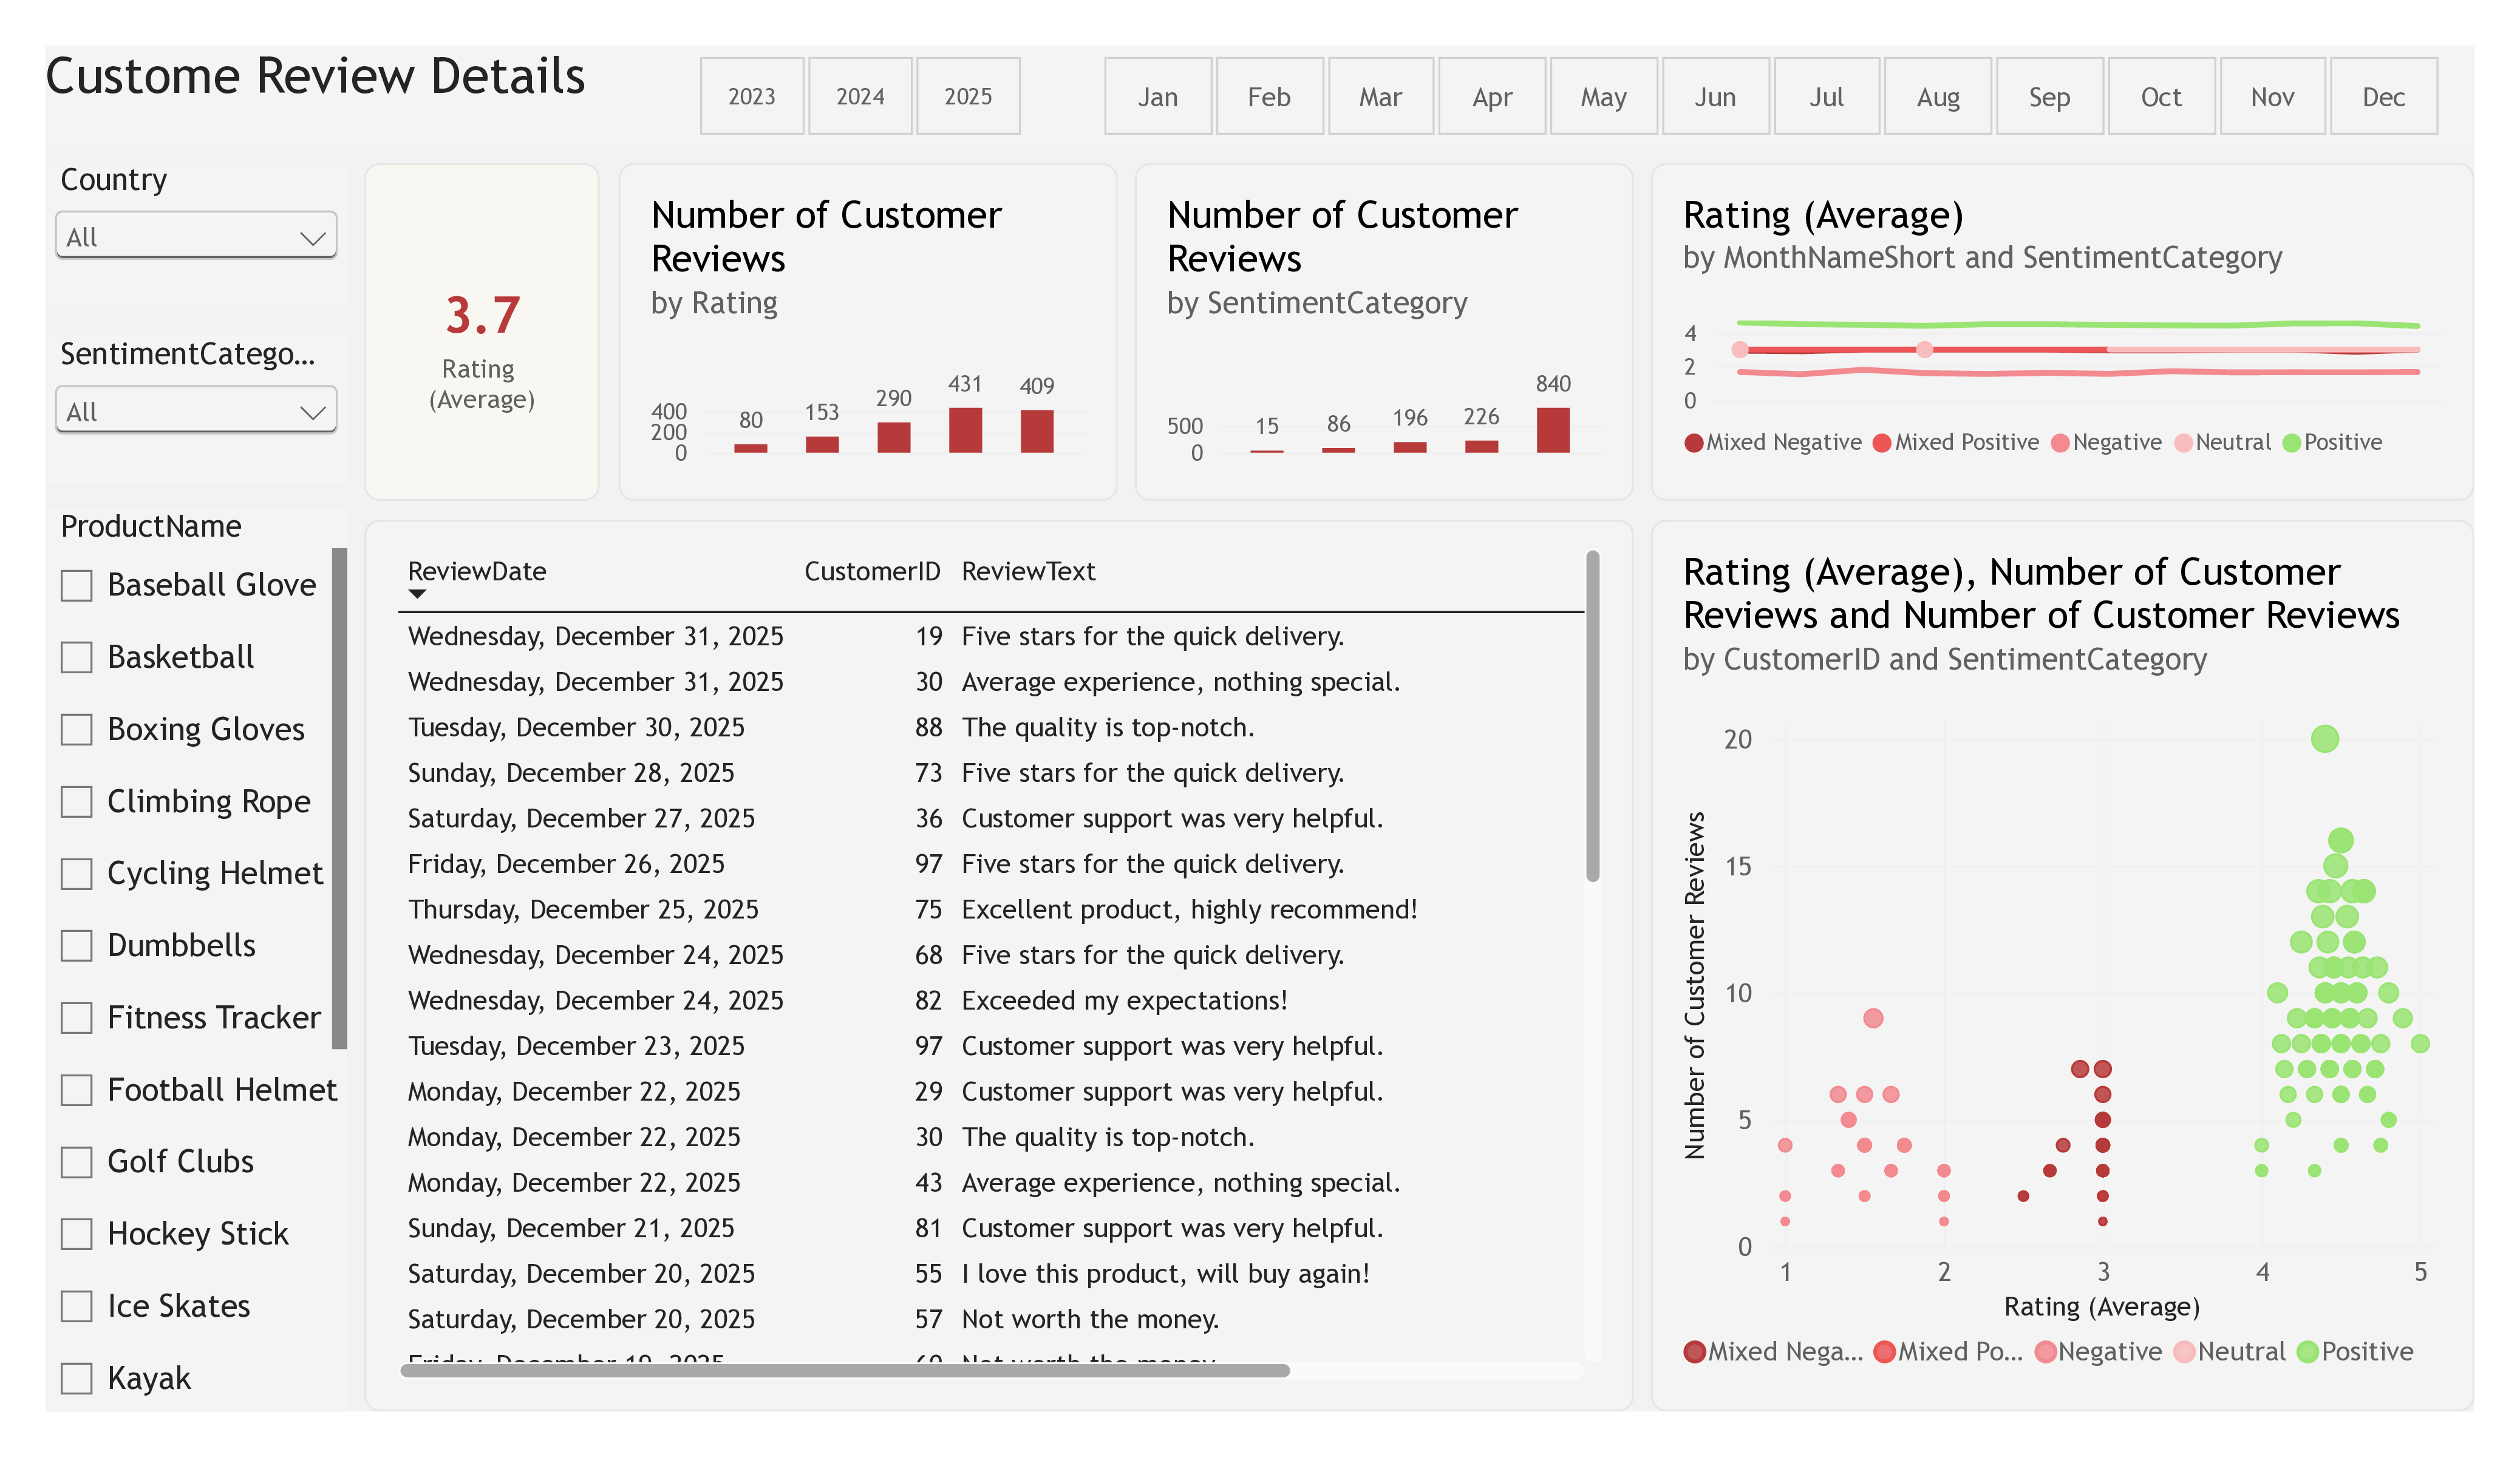

What the dashboard file says about the page in this screenshot:
{"tool":"powerbi","page":{"name":"Customer Review Details","canvas":[1280,720],"ordinal":3},"visuals":[{"type":"textbox","box":[0,0,1280,52.6],"z":0},{"type":"slicer","fields":{"Values":["dim_products.ProductName"]},"box":[0,244.2,159.3,475.3],"z":1000},{"type":"card","fields":{"Values":["_Calculations.Rating (Average)"]},"box":[168.5,61.9,123.8,178.5],"z":2000},{"type":"slicer","fields":{"Values":["Calendar.MonthNameShort"]},"box":[536.8,4.1,743.2,44.4],"z":3000},{"type":"lineChart","fields":{"Category":["Calendar.MonthNameShort"],"Series":["fact_customer_reviews_with_sentiment.SentimentCategory"],"Y":["_Calculations.Rating (Average)"]},"box":[846.2,62,434.1,178.4],"z":4000},{"type":"slicer","fields":{"Values":["Calendar.Year"]},"box":[324.1,4.1,208.5,44.4],"z":5000},{"type":"tableEx","fields":{"Values":["fact_customer_reviews_with_sentiment.ReviewDate","fact_customer_reviews_with_sentiment.CustomerID","fact_customer_reviews_with_sentiment.ReviewText","fact_customer_reviews_with_sentiment.SentimentCategory","fact_customer_reviews_with_sentiment.Rating"]},"box":[168.5,249.5,668.4,470.8],"z":6000},{"type":"columnChart","fields":{"Category":["fact_customer_reviews_with_sentiment.Rating"],"Y":["_Calculations.Number of Customer Reviews"]},"box":[302.4,62,262.4,178.4],"z":7000},{"type":"columnChart","fields":{"Category":["fact_customer_reviews_with_sentiment.SentimentCategory"],"Y":["_Calculations.Number of Customer Reviews"]},"box":[574.3,62,262.4,178.4],"z":8000},{"type":"slicer","fields":{"Values":["dim_customers.Country"]},"box":[0,61.4,159.3,78.3],"z":9000},{"type":"slicer","fields":{"Values":["fact_customer_reviews_with_sentiment.SentimentCategory"]},"box":[0,152.8,159.3,78.3],"z":10000},{"type":"scatterChart","fields":{"Category":["dim_customers.CustomerID"],"Series":["fact_customer_reviews_with_sentiment.SentimentCategory"],"Size":["_Calculations.Number of Customer Reviews"],"X":["_Calculations.Rating (Average)"],"Y":["_Calculations.Number of Customer Reviews"]},"box":[846,249.5,434.4,470.8],"z":11000}]}

Visuals, with their boxes on the page's 1280x720 design canvas (x1, y1, x2, y2). These are canvas units, not pixel positions in the 2520x1457 screenshot, which may show the page scaled, cropped or inside an application window:
textbox: region(0, 0, 1280, 53)
slicer - dim_products.ProductName: region(0, 244, 159, 720)
card - _Calculations.Rating (Average): region(168, 62, 292, 240)
slicer - Calendar.MonthNameShort: region(537, 4, 1280, 48)
lineChart - Calendar.MonthNameShort x fact_customer_reviews_with_sentiment.SentimentCategory: region(846, 62, 1280, 240)
slicer - Calendar.Year: region(324, 4, 533, 48)
tableEx - fact_customer_reviews_with_sentiment.ReviewDate x fact_customer_reviews_with_sentiment.CustomerID: region(168, 250, 837, 720)
columnChart - fact_customer_reviews_with_sentiment.Rating x _Calculations.Number of Customer Reviews: region(302, 62, 565, 240)
columnChart - fact_customer_reviews_with_sentiment.SentimentCategory x _Calculations.Number of Customer Reviews: region(574, 62, 837, 240)
slicer - dim_customers.Country: region(0, 61, 159, 140)
slicer - fact_customer_reviews_with_sentiment.SentimentCategory: region(0, 153, 159, 231)
scatterChart - dim_customers.CustomerID x fact_customer_reviews_with_sentiment.SentimentCategory: region(846, 250, 1280, 720)
